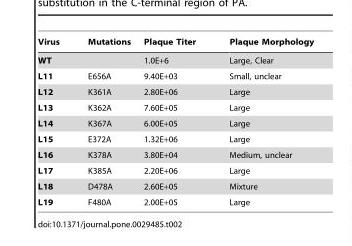table: (37, 37, 313, 206)
table column: (211, 37, 313, 206), (136, 37, 211, 206), (73, 37, 136, 206), (37, 37, 73, 206)
table column header: (37, 37, 313, 49)
table row: (37, 49, 313, 67), (37, 67, 313, 83), (37, 98, 313, 114), (37, 114, 313, 130), (37, 130, 313, 146), (37, 161, 313, 177), (37, 177, 313, 193), (37, 83, 313, 98), (37, 146, 313, 161), (37, 193, 313, 206), (37, 37, 313, 49)
